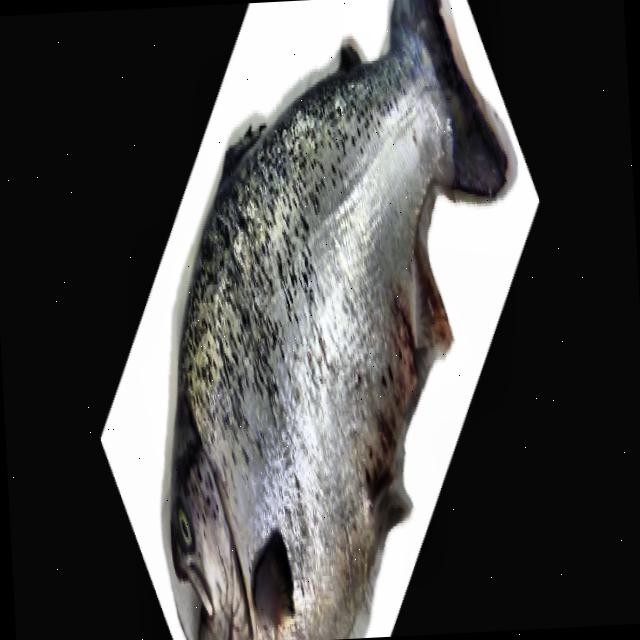mild_red: (182, 41, 451, 637)
